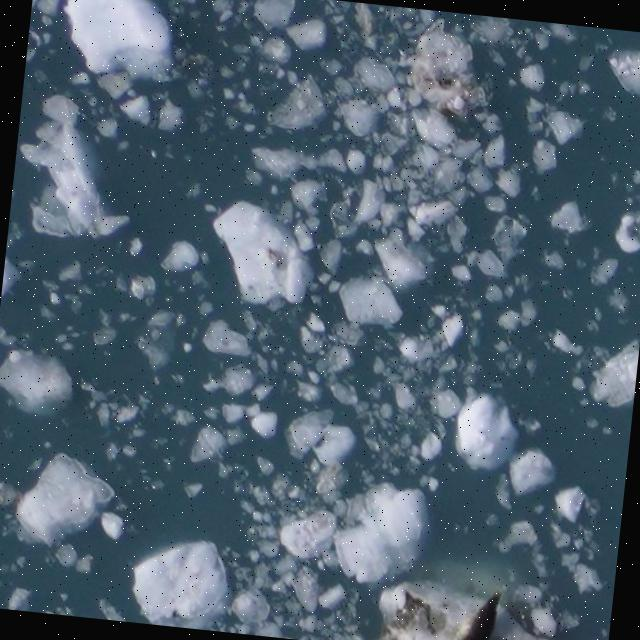seal: (451, 579, 515, 640)
